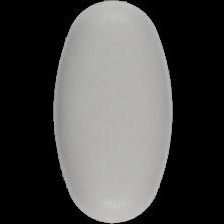50436-3613: (0, 0, 224, 224)
